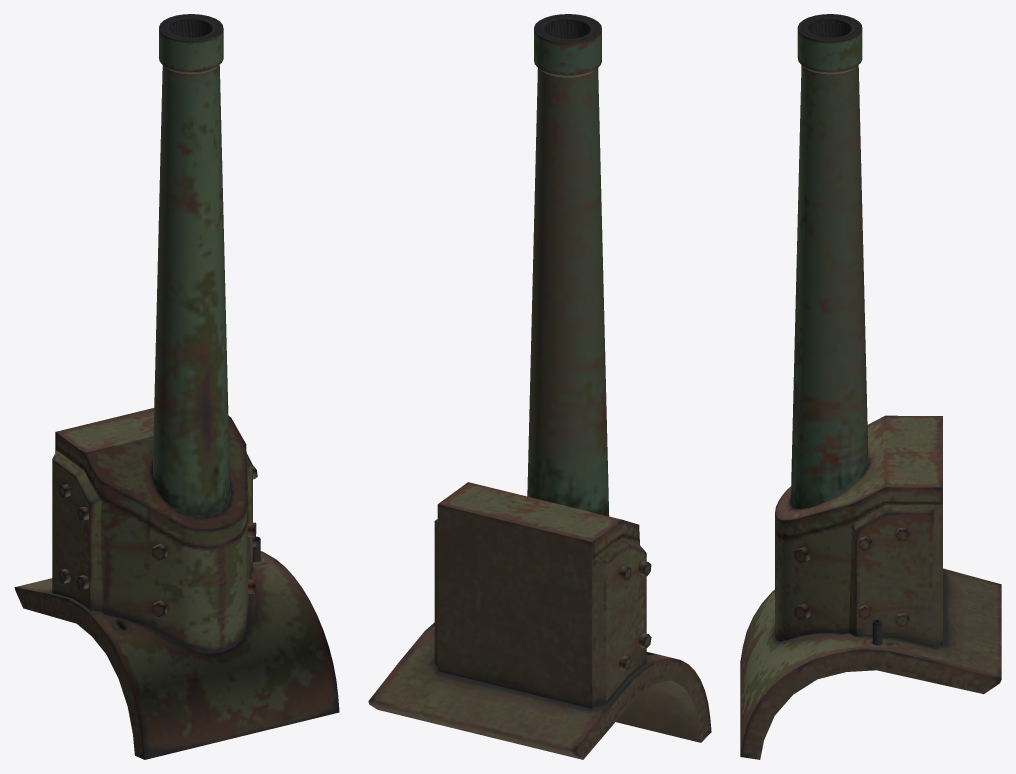
File: Gun_01.glb
The picture shows the model from 3 angles, left to right: view 1: azimuth 30°, elevation 25°; view 2: azimuth 150°, elevation 25°; view 3: azimuth 270°, elevation 25°; orthographic projection. The views are drawn at different scales.
Parts seen in each view (by area): view 1: set_0_group_0; view 2: set_0_group_0; view 3: set_0_group_0.
Part boxes in pixels (box(x1,y1,x2,y2)): set_0_group_0: box(14, 14, 339, 759); set_0_group_0: box(368, 14, 711, 759); set_0_group_0: box(740, 14, 1001, 759).
Size of the model in its own units: 0.5513 by 1.82 by 0.6326.
1 material, 1 textured.
